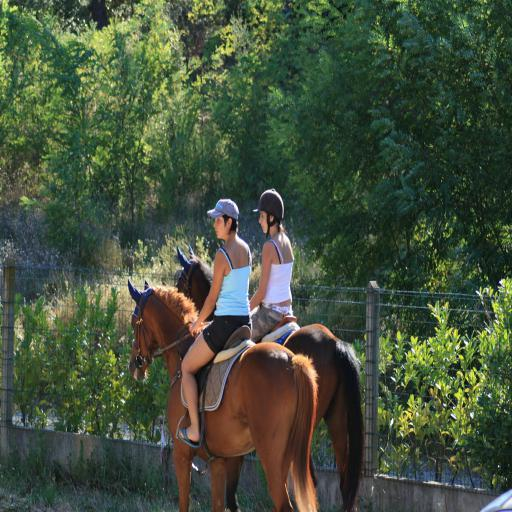horse: (175, 244, 367, 506), (128, 276, 320, 512)
